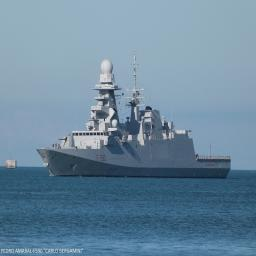Fragata: (32, 47, 236, 181)
